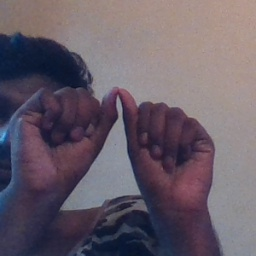A: (44, 81, 189, 191)
